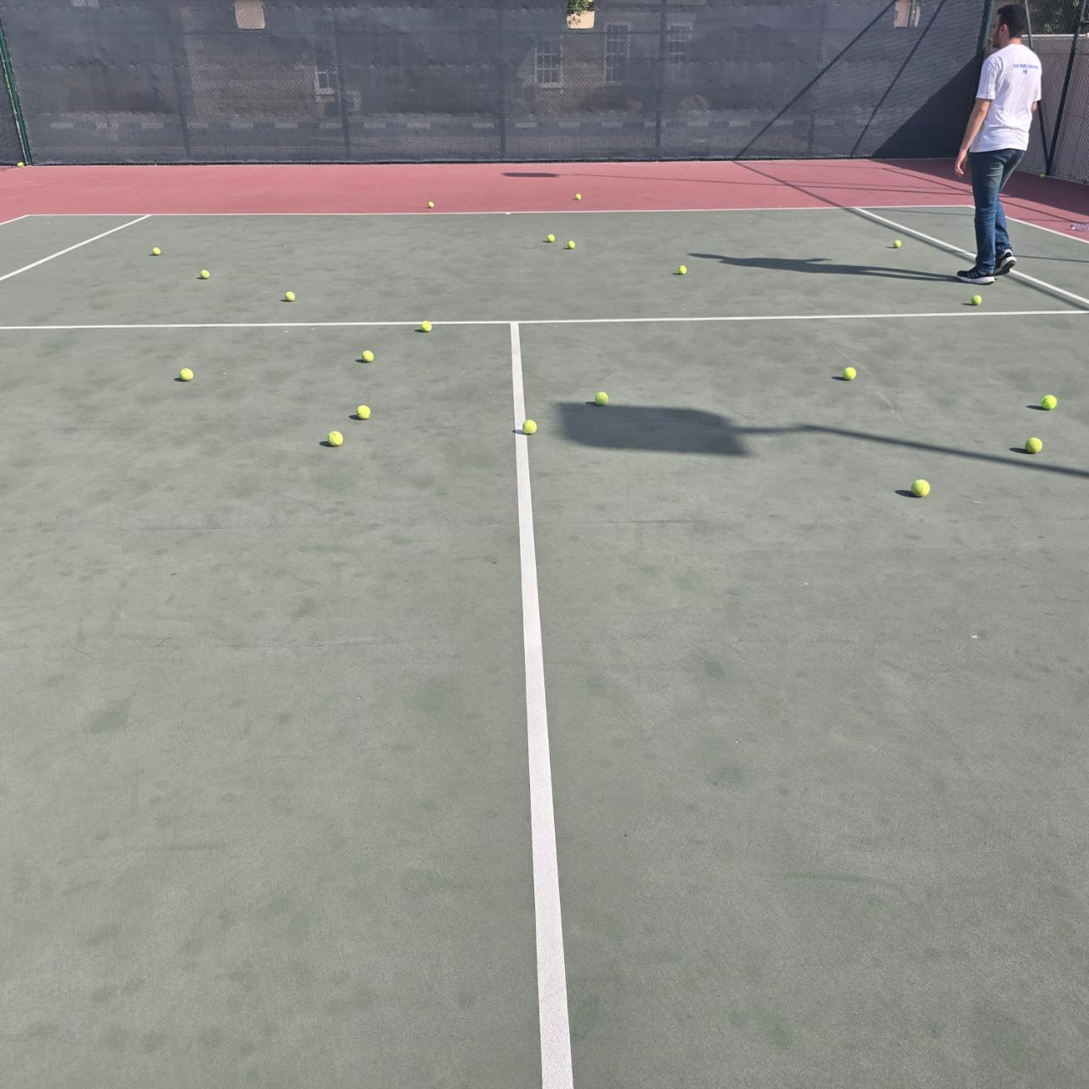tennis-ball: (909, 476, 930, 497), (1024, 435, 1042, 453), (1041, 392, 1057, 409), (327, 429, 343, 446), (355, 402, 370, 419), (522, 417, 537, 434), (842, 364, 857, 380), (594, 389, 608, 405), (178, 366, 193, 380), (361, 350, 374, 362), (420, 321, 432, 333), (284, 291, 296, 302), (970, 295, 982, 306), (199, 269, 211, 279), (893, 239, 902, 249), (678, 265, 687, 274), (152, 247, 161, 255), (547, 234, 555, 243), (567, 241, 576, 249), (428, 201, 434, 208), (575, 194, 582, 200), (17, 162, 24, 167)
